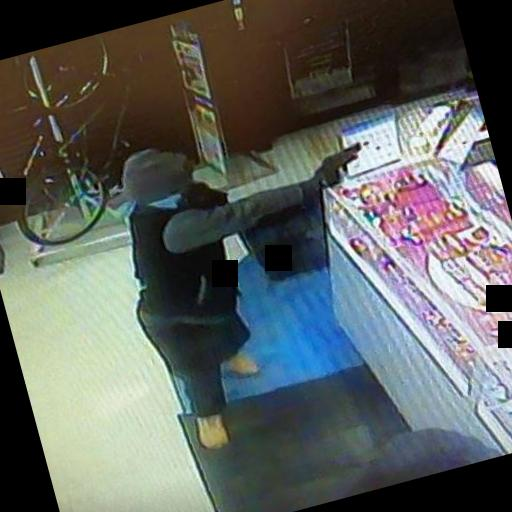Handgun: (308, 134, 374, 192)
